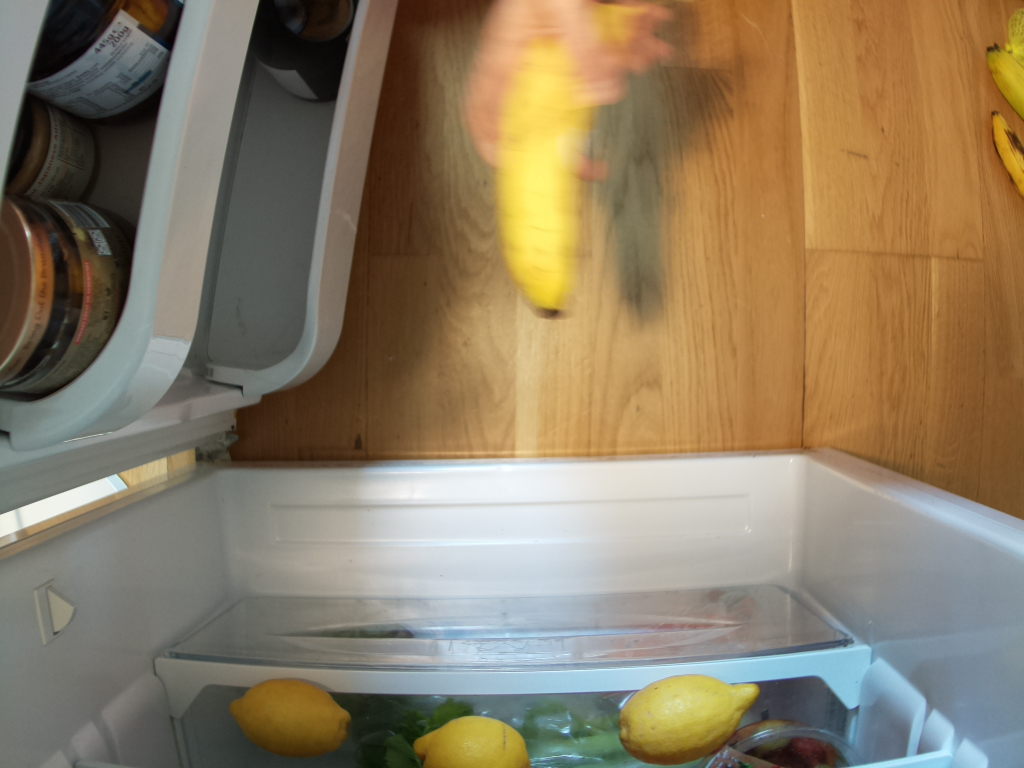banana: (494, 31, 594, 326)
